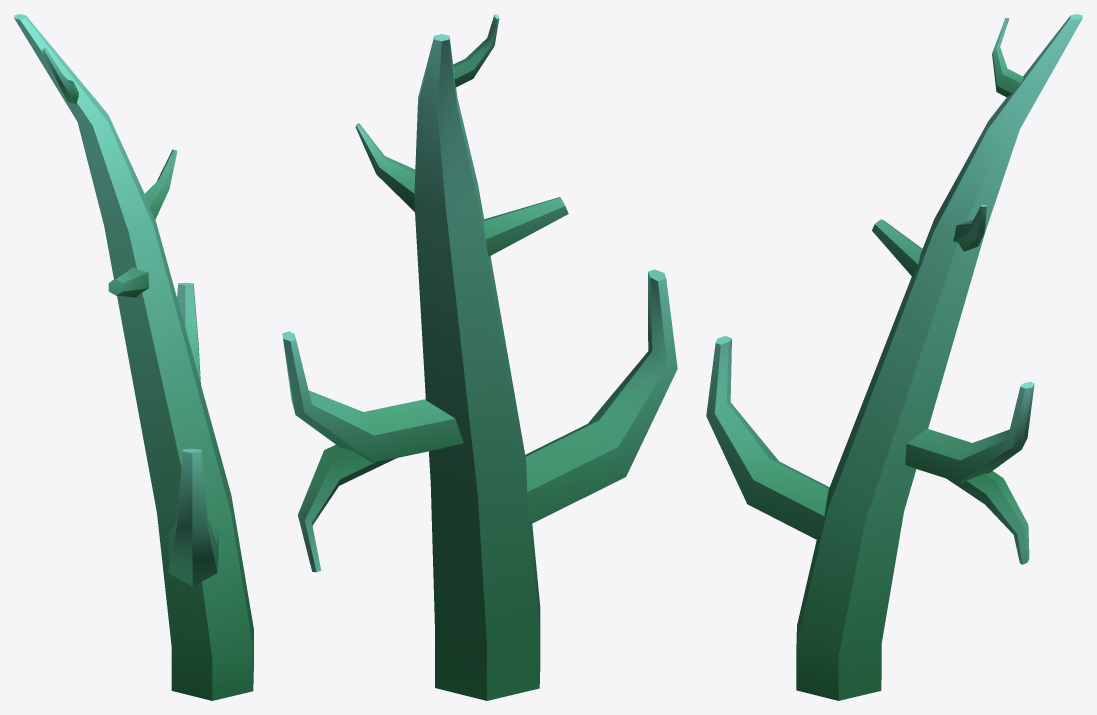
Rendered from CoralReef_08.fbx.
3 views of the same model, side by side, from view 1: azimuth 30°, elevation 25°; view 2: azimuth 150°, elevation 25°; view 3: azimuth 270°, elevation 25° (orthographic). The views are drawn at different scales.
Visible parts, largest first — view 1: pPrism9; view 2: pPrism9; view 3: pPrism9.
Boxes of the visible parts, x1=… form: pPrism9: x1=14, y1=14, x2=253, y2=700; pPrism9: x1=282, y1=14, x2=677, y2=700; pPrism9: x1=706, y1=14, x2=1082, y2=700.
Bounding box in the file's own units: 42.43 × 150 × 81.97.
Materials: 1 (1 with a texture image).
